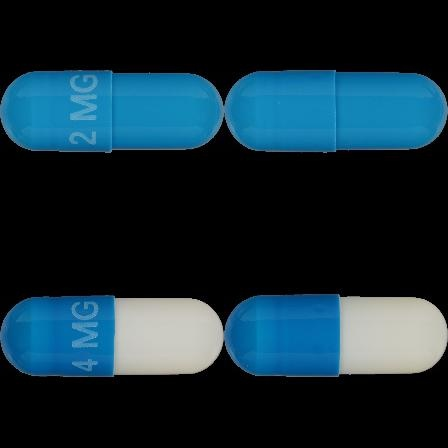0591-2788: (0, 0, 224, 224)
